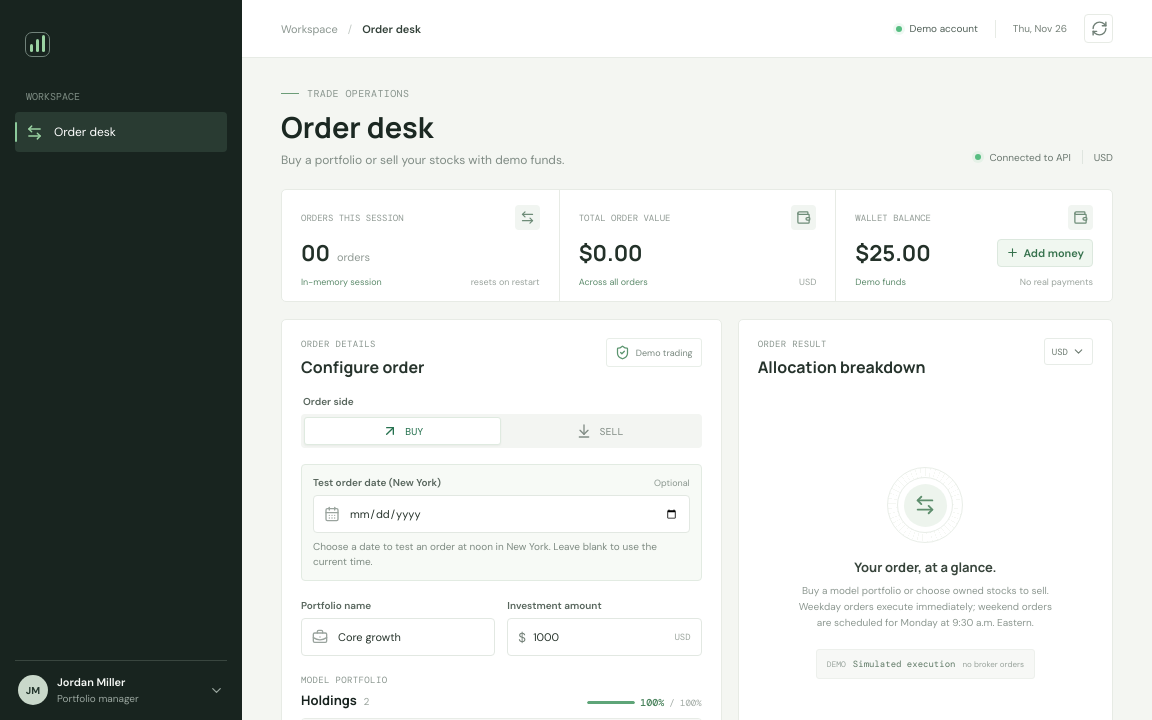
it: order desk › keeps the wallet unchanged when a demo top-up is rejected
The width and height of the screenshot is (1152, 720).
Expected: the text "Connected to API" is shown, [989, 150, 1071, 164]
Click the button "Add money": (1045, 252) [998, 238, 1093, 266]
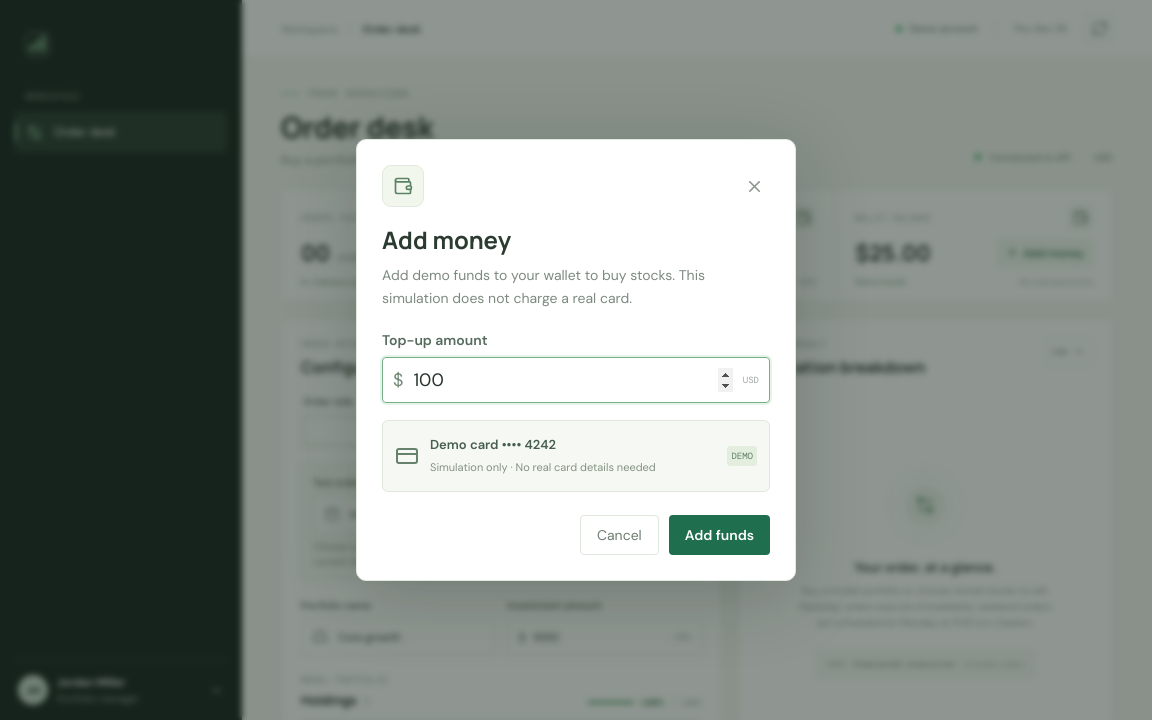
Replace the text in the number field labelled "Top-up amount" with "50": (573, 380) [412, 358, 735, 402]
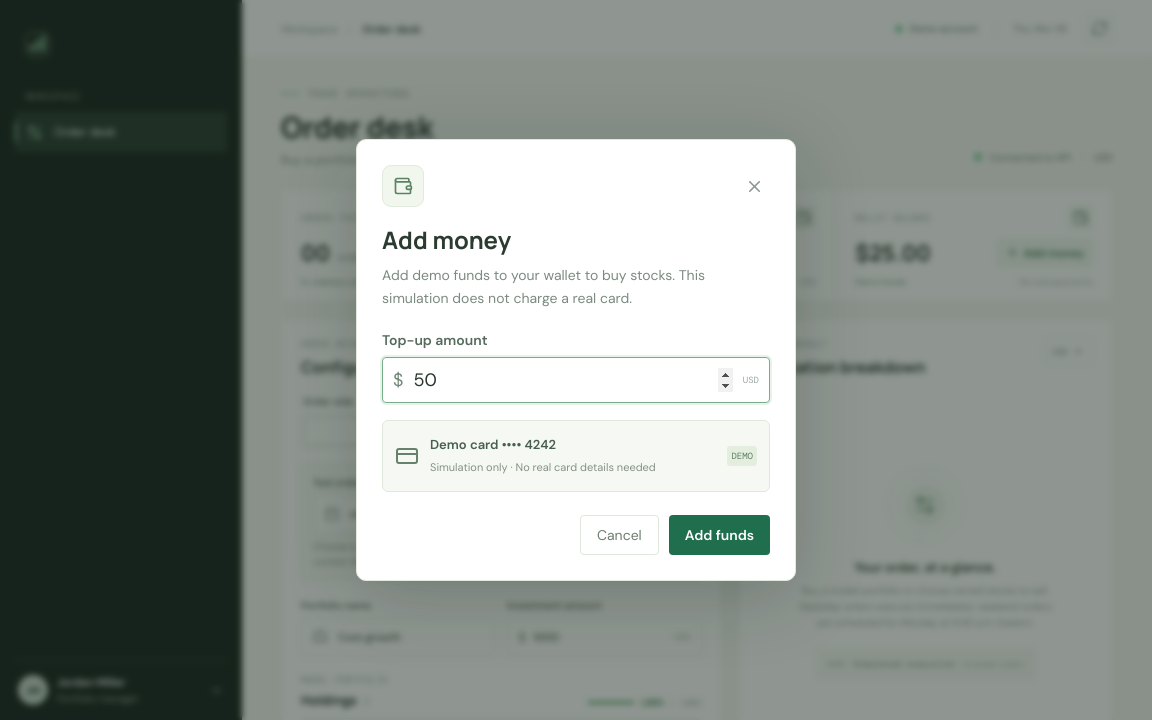
Click the button "Add funds": (719, 535) [669, 515, 770, 555]
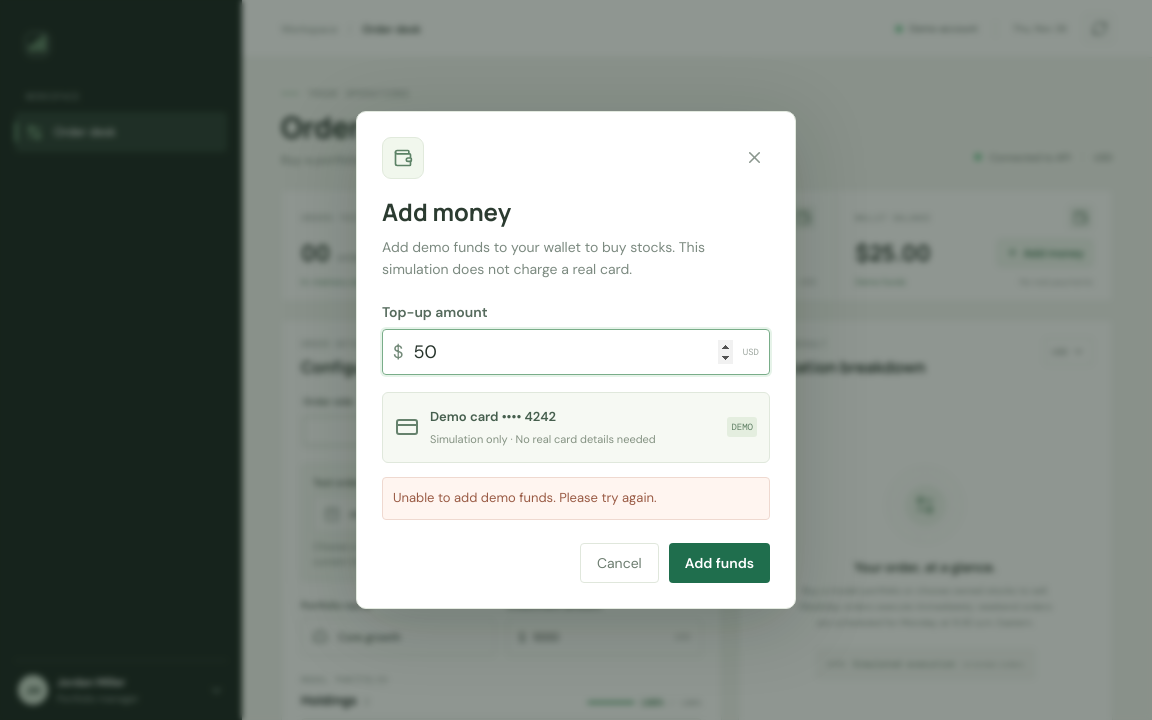
Expected: the text named "Wallet balance" reads "$25.00", [855, 238, 931, 268]
Expected: the dialog "Add money" is shown, [356, 111, 796, 609]
Expected: the text "Unable to add demo funds. Please try again." is shown, [382, 477, 770, 520]
